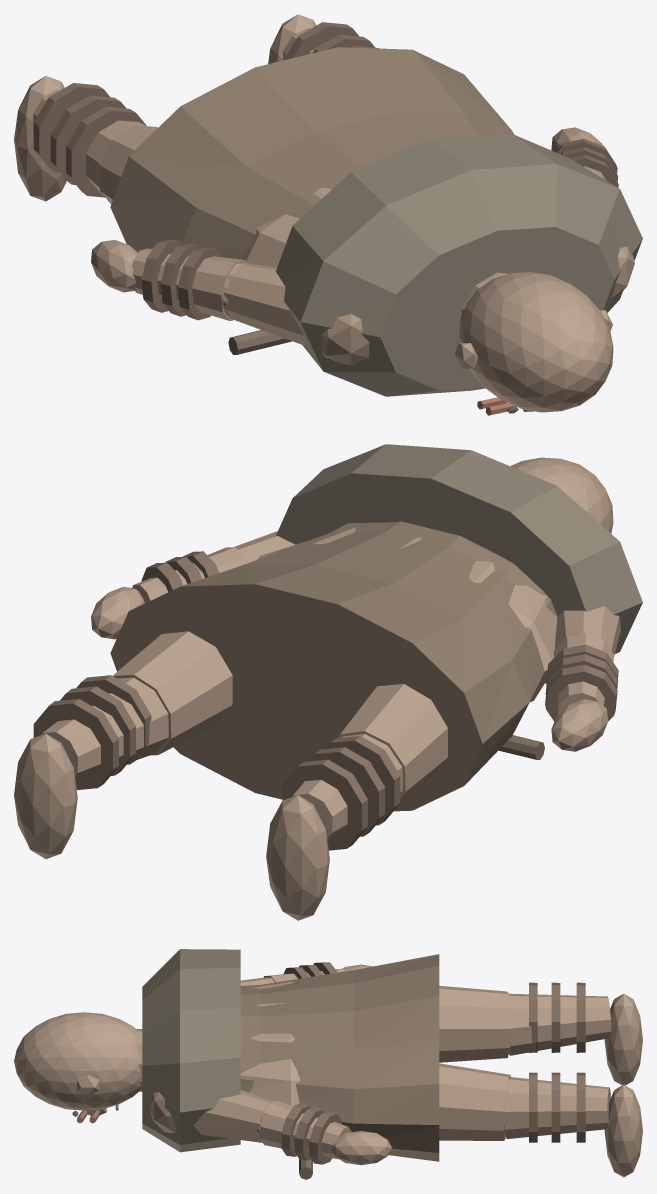
The model's file is woman_stocky__warrior.glb.
3 views of the same model, one above another, from view 1: azimuth 30°, elevation 25°; view 2: azimuth 150°, elevation 25°; view 3: azimuth 270°, elevation 25° (orthographic). The views are drawn at different scales.
Parts seen in each view (by area): view 1: part_043, part_039, part_010, part_018, part_003, part_020, part_027, part_025, part_026, part_021, part_017, part_000 (+11 smaller); view 2: part_039, part_043, part_004, part_000, part_007, part_003, part_006, part_008, part_025, part_010, part_036, part_021 (+15 smaller); view 3: part_039, part_043, part_010, part_000, part_004, part_006, part_002, part_007, part_003, part_029, part_008, part_031 (+12 smaller).
Part boxes in pixels (x1,y1,x2,y2): part_043: (276, 133, 642, 396); part_039: (110, 47, 513, 259); part_010: (459, 272, 613, 412); part_018: (223, 263, 306, 346); part_003: (14, 76, 66, 201); part_020: (132, 248, 247, 320); part_027: (66, 106, 146, 197); part_025: (33, 83, 109, 172); part_026: (50, 95, 126, 184); part_021: (91, 239, 137, 292); part_017: (321, 314, 369, 365); part_000: (99, 125, 157, 204); part_039: (110, 521, 557, 811); part_043: (276, 444, 642, 683); part_004: (113, 631, 232, 755); part_000: (336, 684, 447, 801); part_007: (14, 733, 77, 858); part_003: (266, 795, 329, 920); part_006: (41, 677, 168, 781); part_008: (258, 527, 557, 701); part_025: (282, 759, 367, 850); part_010: (510, 457, 613, 533); part_036: (33, 699, 118, 789); part_021: (551, 699, 607, 751); part_039: (240, 954, 439, 1161); part_043: (142, 949, 240, 1152); part_010: (14, 1012, 141, 1110); part_000: (439, 986, 510, 1062); part_004: (439, 1063, 510, 1140); part_006: (504, 1077, 610, 1138); part_002: (509, 993, 611, 1055); part_007: (604, 1084, 642, 1177); part_003: (604, 993, 642, 1085); part_029: (193, 1090, 273, 1142); part_008: (240, 982, 300, 1106); part_031: (260, 1100, 351, 1159).
Bounding box in the file's own units: 1.61 × 0.6967 × 2.37.
